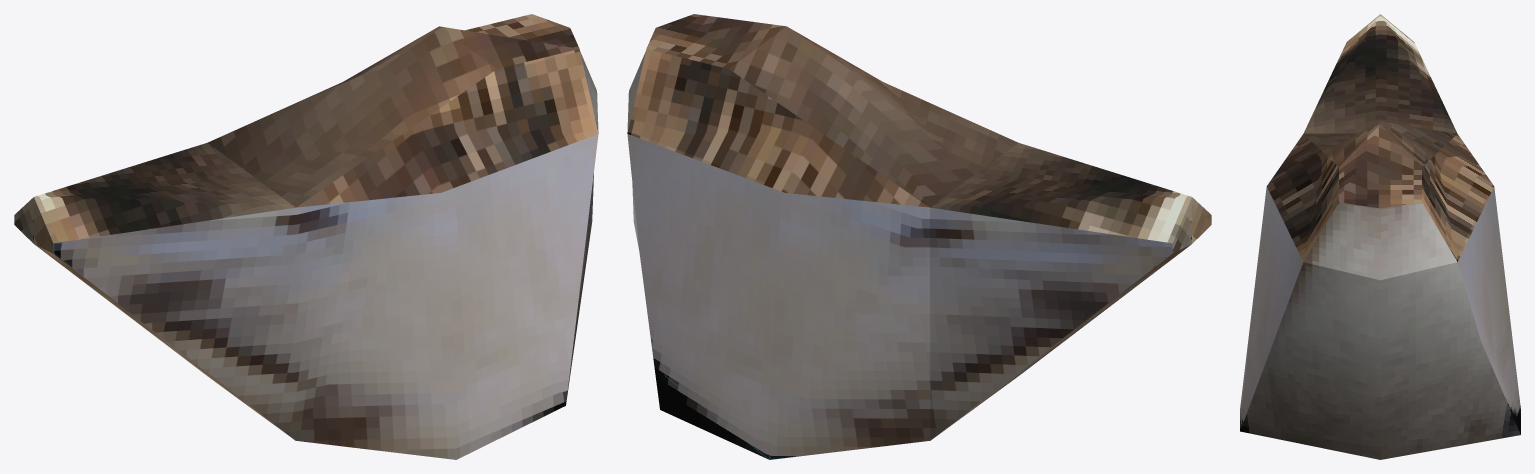
The model's file is g body.fbx.
3 views of the same model, side by side, from view 1: azimuth 30°, elevation 25°; view 2: azimuth 150°, elevation 25°; view 3: azimuth 270°, elevation 25° (orthographic). The views are drawn at different scales.
Parts seen in each view (by area): view 1: polySurface1; view 2: polySurface1; view 3: polySurface1.
Boxes of the visible parts, x1,y1,x2,y2 form: polySurface1: (14,14,598,459); polySurface1: (627,14,1211,459); polySurface1: (1240,14,1520,459).
Size of the model in its own units: 1100 by 670 by 546.
1 material, 1 textured.
